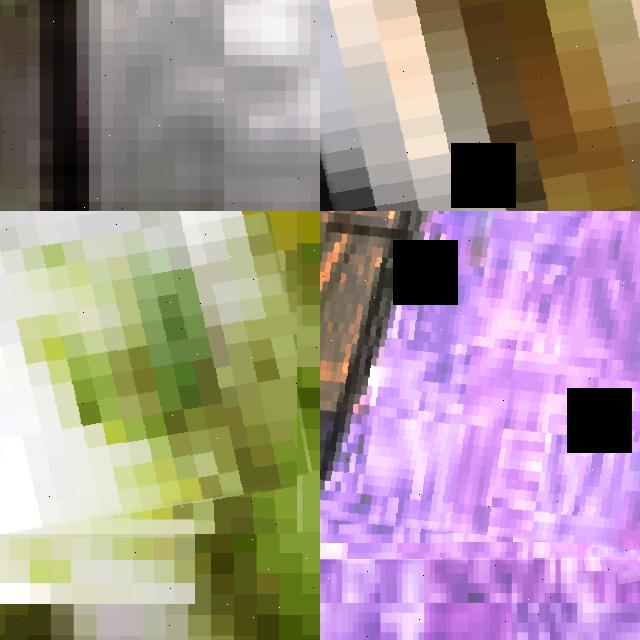arms: (320, 211, 640, 560), (0, 211, 297, 534), (320, 0, 640, 211), (560, 211, 640, 571)
